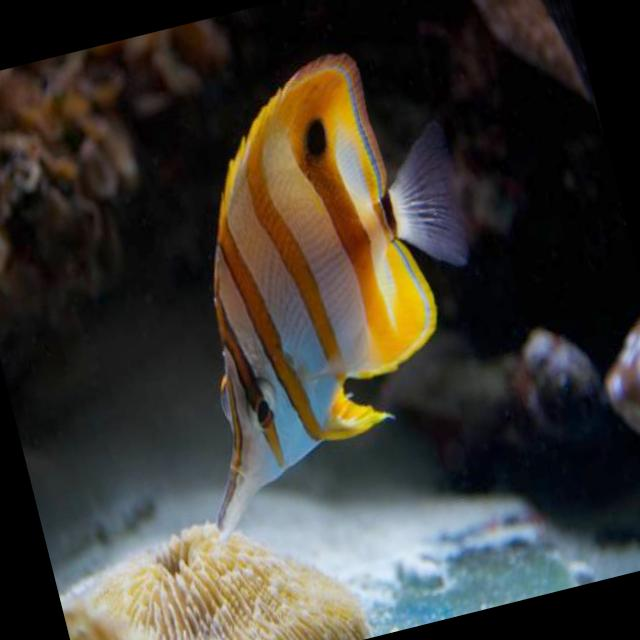ButterflyFish: (109, 31, 512, 532)
